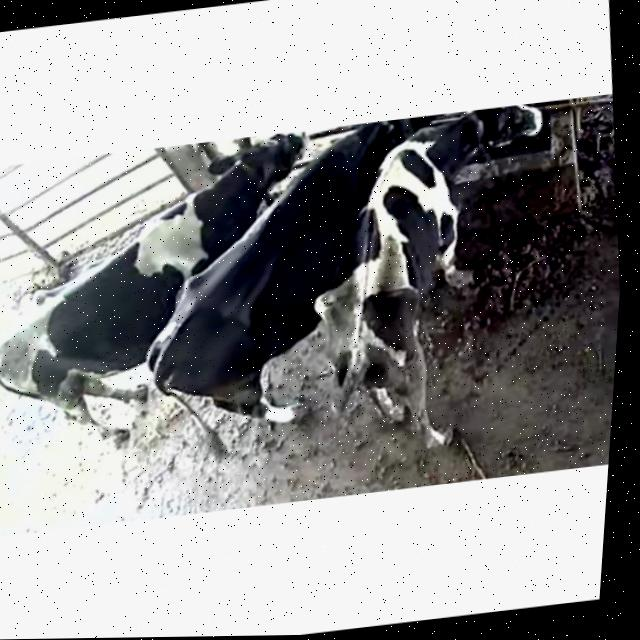drink: (316, 112, 453, 185)
